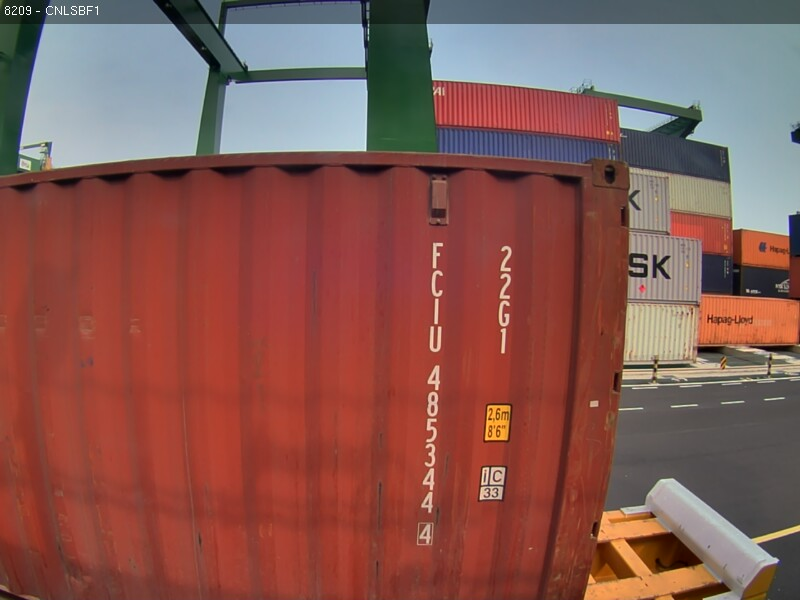container_no_door: (130, 145, 636, 590)
